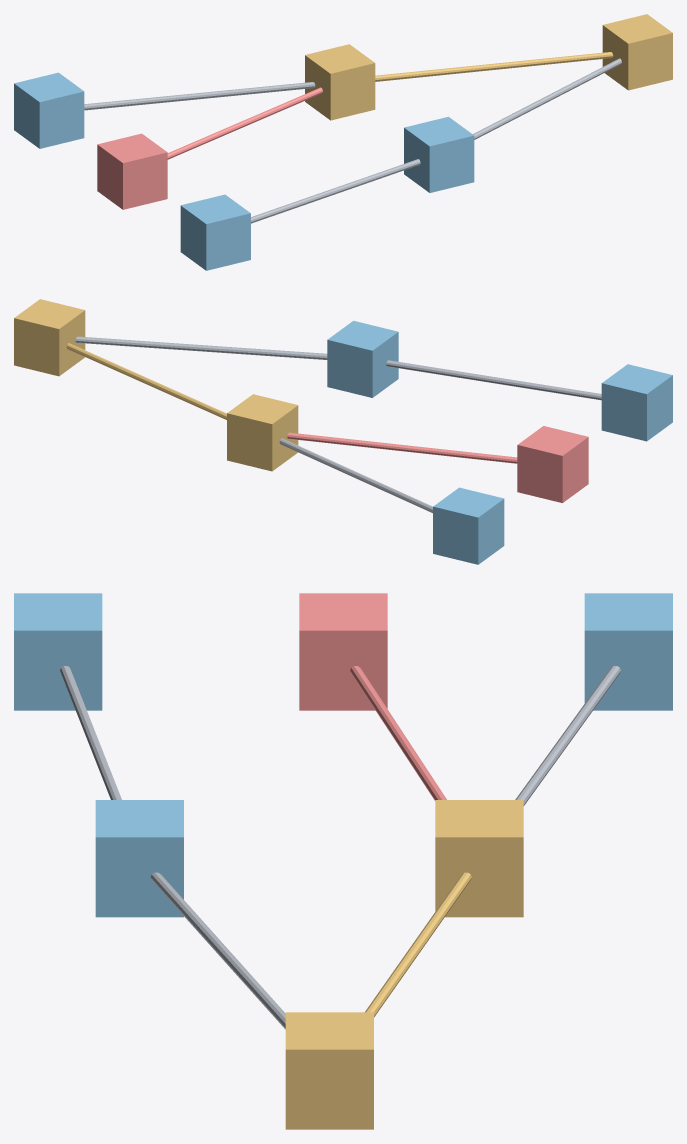
File: pipeline_dag.glb
3 renders of one model, top to bottom at view 1: azimuth 30°, elevation 25°; view 2: azimuth 150°, elevation 25°; view 3: azimuth 270°, elevation 25°, orthographic. The views are drawn at different scales.
Visible parts, largest first — view 1: node_ad_impressions, node_ad_clicks, node_cost, node_stg_cost, node_stg_events, node_mart_daily, edge_stg_events__mart_daily, edge_ad_impressions__stg_events, edge_cost__stg_cost, edge_ad_clicks__stg_events, edge_stg_cost__mart_daily; view 2: node_cost, node_ad_impressions, node_ad_clicks, node_stg_cost, node_mart_daily, node_stg_events, edge_stg_cost__mart_daily, edge_ad_clicks__stg_events, edge_cost__stg_cost, edge_stg_events__mart_daily, edge_ad_impressions__stg_events; view 3: node_mart_daily, node_cost, node_stg_cost, node_ad_clicks, node_stg_events, node_ad_impressions, edge_stg_cost__mart_daily, edge_stg_events__mart_daily, edge_ad_impressions__stg_events, edge_ad_clicks__stg_events, edge_cost__stg_cost.
Part boxes in pixels (left/top/right/bottom): node_ad_impressions: left=14, top=72, right=84, bottom=148; node_ad_clicks: left=97, top=133, right=167, bottom=209; node_cost: left=180, top=194, right=250, bottom=270; node_stg_cost: left=404, top=116, right=474, bottom=192; node_stg_events: left=305, top=44, right=375, bottom=120; node_mart_daily: left=602, top=14, right=672, bottom=90; edge_stg_events__mart_daily: left=375, top=52, right=613, bottom=81; edge_ad_impressions__stg_events: left=84, top=82, right=315, bottom=110; edge_cost__stg_cost: left=251, top=159, right=420, bottom=223; edge_ad_clicks__stg_events: left=167, top=87, right=322, bottom=159; edge_stg_cost__mart_daily: left=473, top=58, right=621, bottom=139; node_cost: left=601, top=364, right=672, bottom=441; node_ad_impressions: left=433, top=487, right=504, bottom=564; node_ad_clicks: left=517, top=426, right=588, bottom=502; node_stg_cost: left=327, top=320, right=398, bottom=397; node_mart_daily: left=14, top=299, right=85, bottom=376; node_stg_events: left=227, top=394, right=298, bottom=471; edge_stg_cost__mart_daily: left=75, top=336, right=327, bottom=359; edge_ad_clicks__stg_events: left=287, top=432, right=517, bottom=463; edge_cost__stg_cost: left=386, top=360, right=601, bottom=400; edge_stg_events__mart_daily: left=66, top=343, right=226, bottom=419; edge_ad_impressions__stg_events: left=279, top=438, right=432, bottom=512; node_mart_daily: left=285, top=1012, right=373, bottom=1129; node_cost: left=14, top=593, right=102, bottom=710; node_stg_cost: left=95, top=800, right=183, bottom=917; node_ad_clicks: left=299, top=593, right=387, bottom=710; node_stg_events: left=435, top=800, right=523, bottom=917; node_ad_impressions: left=584, top=593, right=672, bottom=710; edge_stg_cost__mart_daily: left=150, top=872, right=285, bottom=1029; edge_stg_events__mart_daily: left=365, top=872, right=471, bottom=1017; edge_ad_impressions__stg_events: left=515, top=666, right=620, bottom=805; edge_ad_clicks__stg_events: left=350, top=666, right=446, bottom=800; edge_cost__stg_cost: left=60, top=666, right=121, bottom=799.
Bounding box in the file's own units: 1.59 × 0.13 × 0.97.
